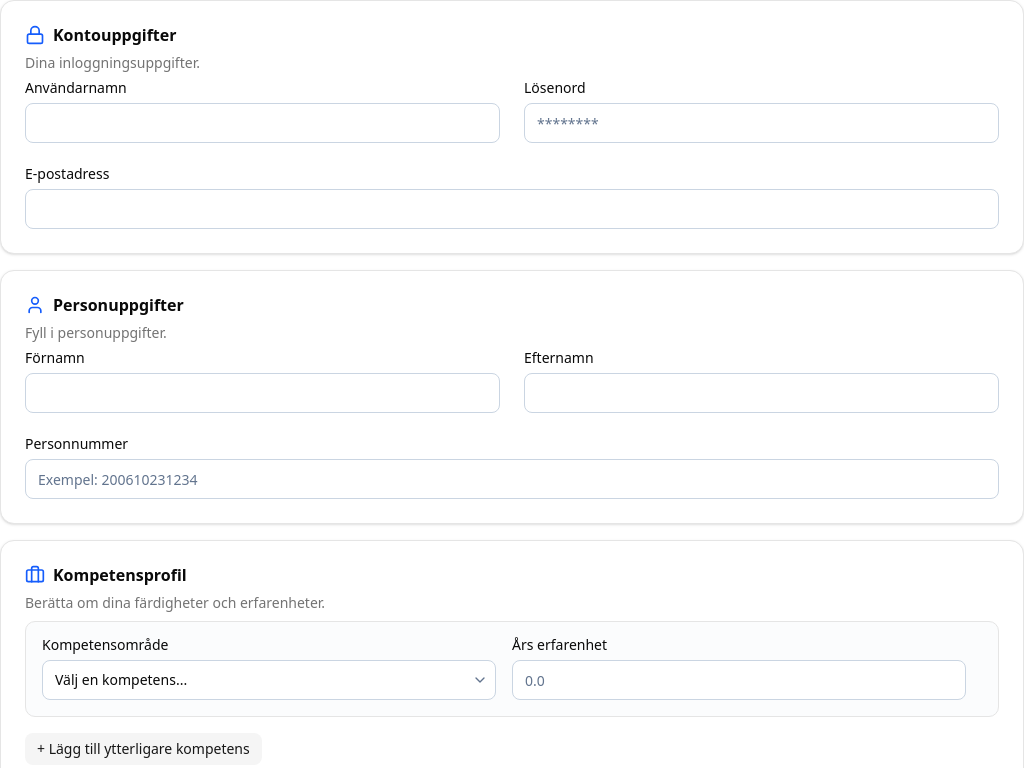
create-account-form › borde hantera att lägga till och ta bort kompetens
// Lägg till en rad
Click the button "+ Lägg till ytterligare kompetens": (143,749) [25,733,262,765]
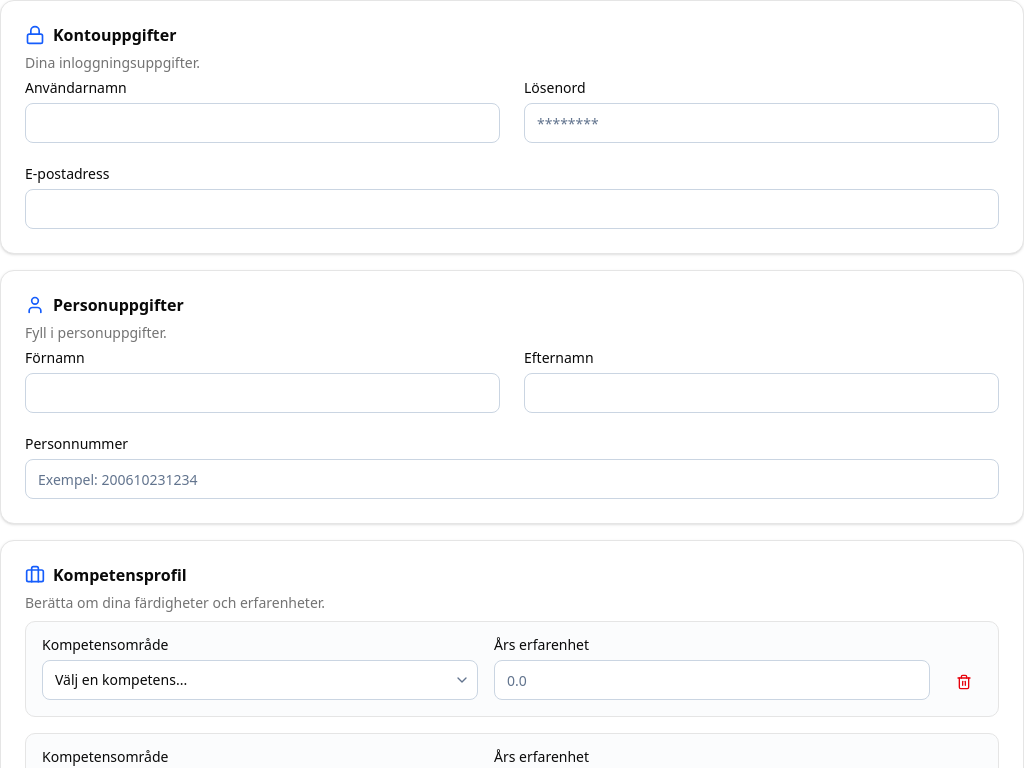
Expected: the number of dropdowns labelled "Kompetensområde" is 2
Click the button: (964,682) [946,664,982,700]
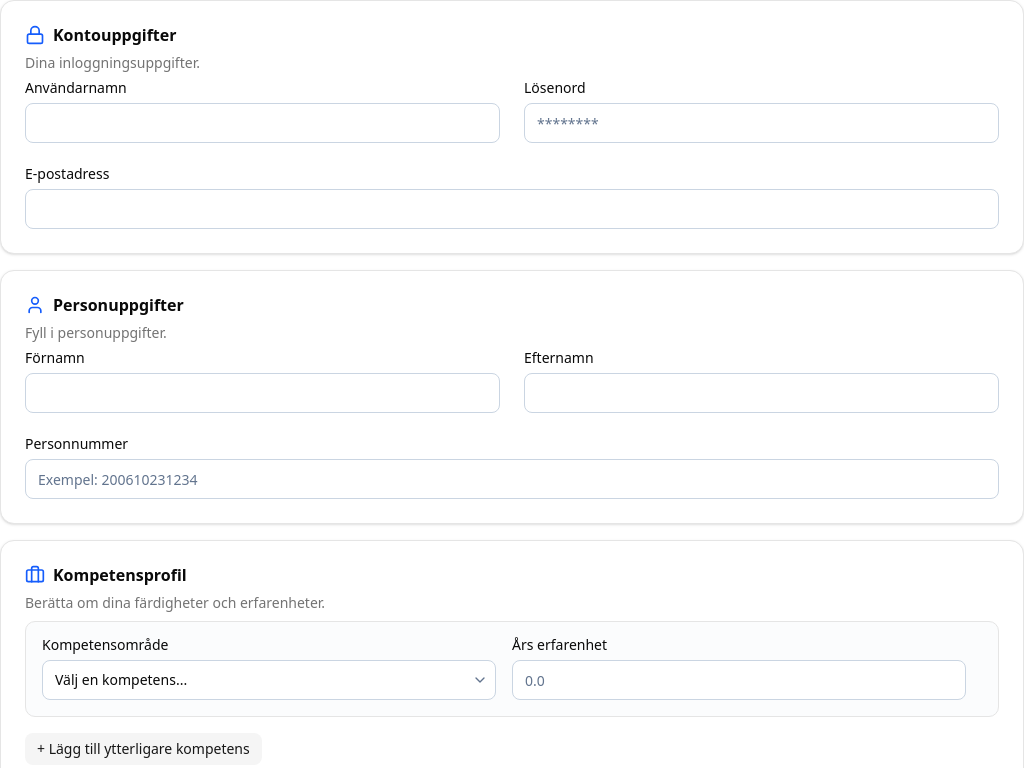
Expected: the number of dropdowns labelled "Kompetensområde" is 1, [42,660,496,700]
